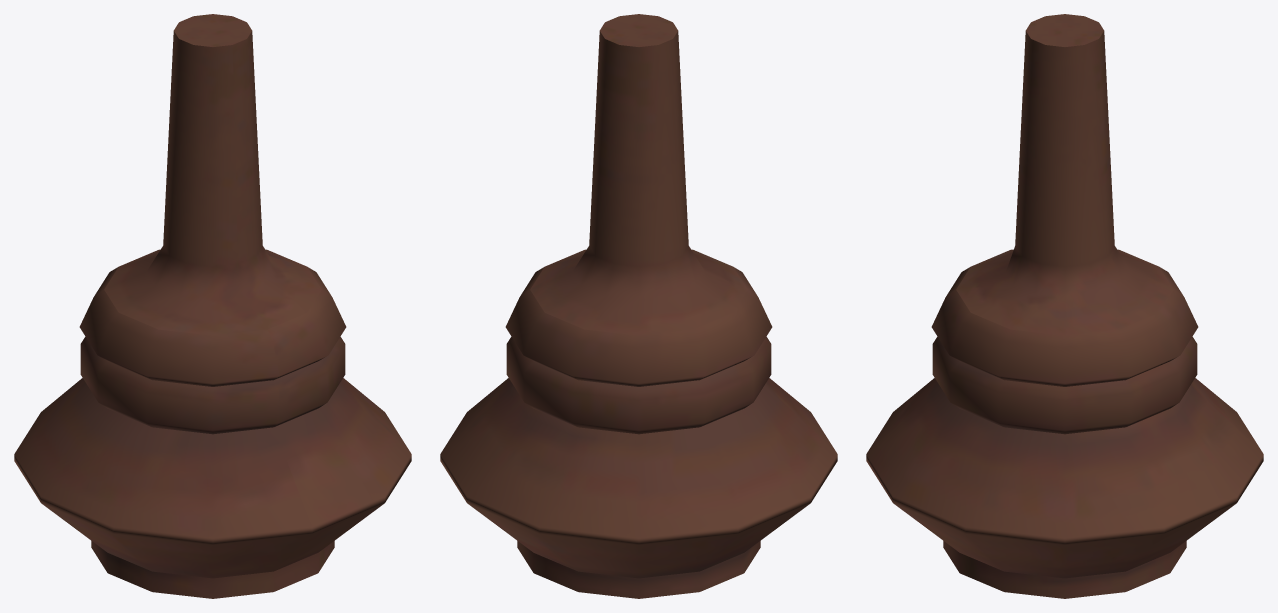
Rendered from TwoTierShelf_Leg.fbx.
3 renders of one model, left to right at view 1: azimuth 30°, elevation 25°; view 2: azimuth 150°, elevation 25°; view 3: azimuth 270°, elevation 25°, orthographic.
Parts seen in each view (by area): view 1: footStick (2); view 2: footStick (2); view 3: footStick (2).
Boxes of the visible parts, x1,y1,x2,y2 form: footStick (2): (14, 14, 411, 598); footStick (2): (440, 14, 837, 598); footStick (2): (866, 14, 1263, 598).
Bounding box in the file's own units: 140 × 200 × 140.
